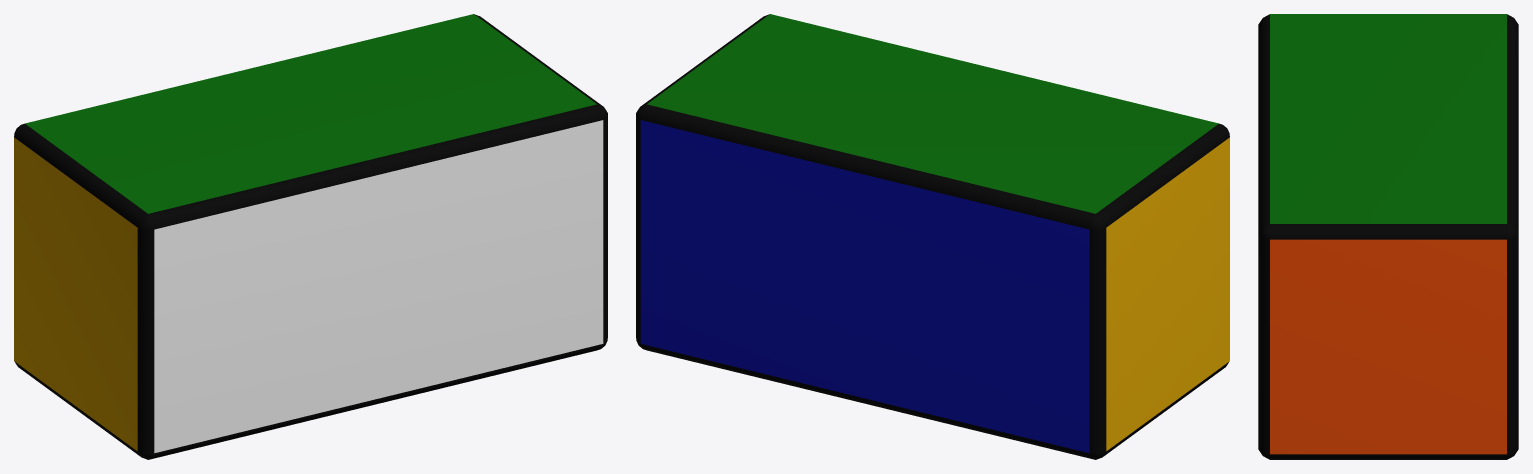
The picture shows the model from 3 angles, left to right: view 1: azimuth 30°, elevation 25°; view 2: azimuth 150°, elevation 25°; view 3: azimuth 270°, elevation 25°; orthographic projection. The views are drawn at different scales.
Parts seen in each view (by area): view 1: 12; view 2: 12; view 3: 12.
Boxes of the visible parts, x1=… form: 12: x1=14, y1=14, x2=607, y2=459; 12: x1=636, y1=14, x2=1229, y2=459; 12: x1=1258, y1=14, x2=1518, y2=459.
Size of the model in its own units: 20 by 10 by 10.
